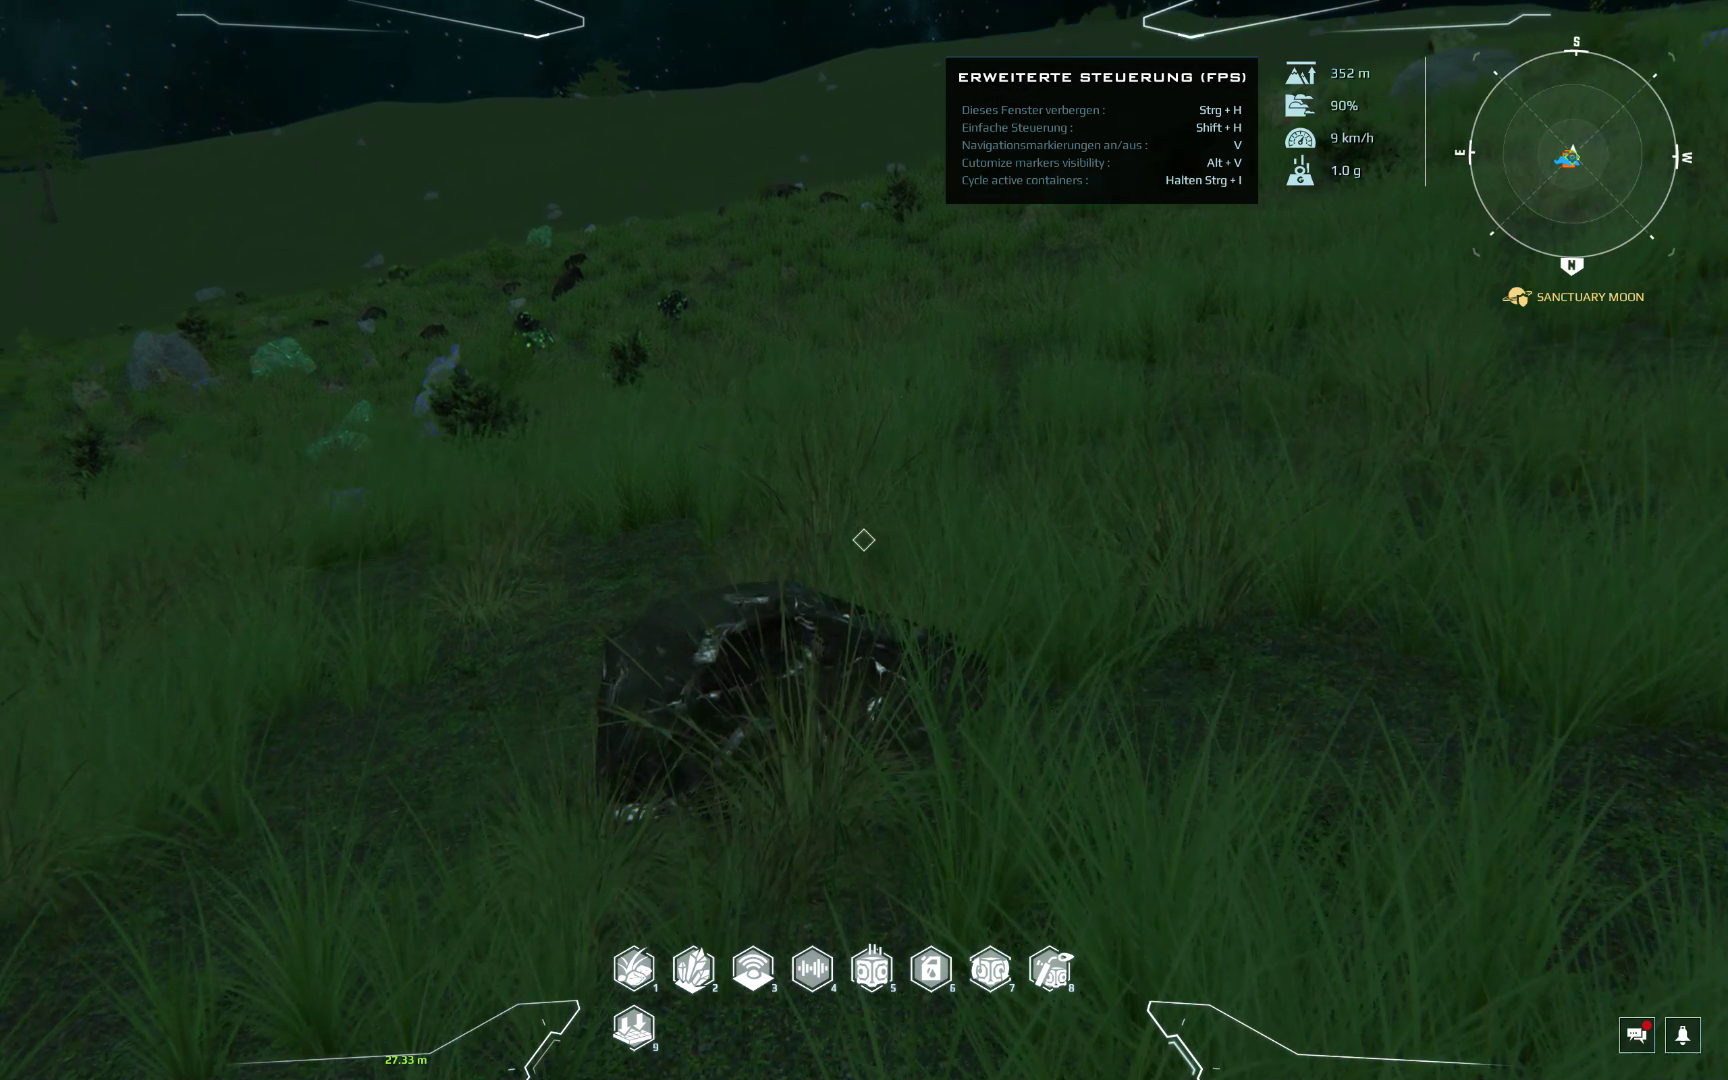Ore: (581, 574, 987, 825), (58, 368, 134, 470), (304, 397, 379, 468), (246, 333, 322, 386), (504, 312, 562, 358), (549, 253, 588, 300), (651, 285, 700, 321), (352, 302, 388, 340), (811, 185, 853, 209), (758, 180, 799, 203), (413, 320, 449, 340), (309, 317, 332, 331)
